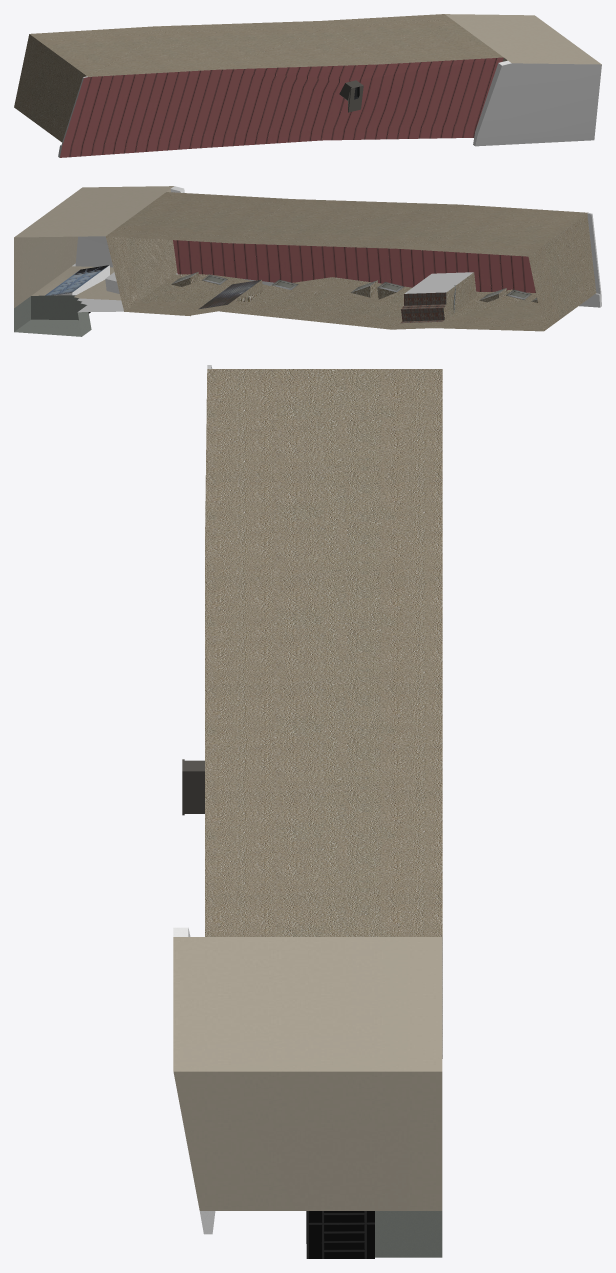
Rendered from Lai_50_3-origo.obj.
3 renders of one model, top to bottom at view 1: azimuth 30°, elevation 25°; view 2: azimuth 150°, elevation 25°; view 3: azimuth 270°, elevation 25°, orthographic. The views are drawn at different scales.
Visible parts, largest first — view 1: Lai50_3, Lai50_3a; view 2: Lai50_3, Lai50_3a; view 3: Lai50_3, Lai50_3a.
Part boxes in pixels (left/top/right/bottom): Lai50_3: left=14, top=14, right=503, bottom=157; Lai50_3a: left=445, top=14, right=601, bottom=146; Lai50_3: left=106, top=192, right=601, bottom=331; Lai50_3a: left=14, top=186, right=184, bottom=336; Lai50_3: left=182, top=365, right=442, bottom=1058; Lai50_3a: left=173, top=927, right=442, bottom=1258.
Size of the model in its own units: 23.75 by 8.5 by 5.26.
